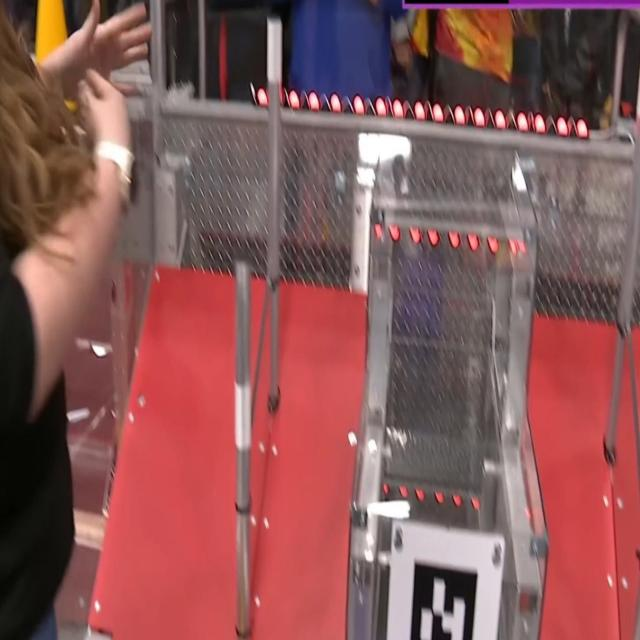frc_cone: (25, 0, 76, 63)
